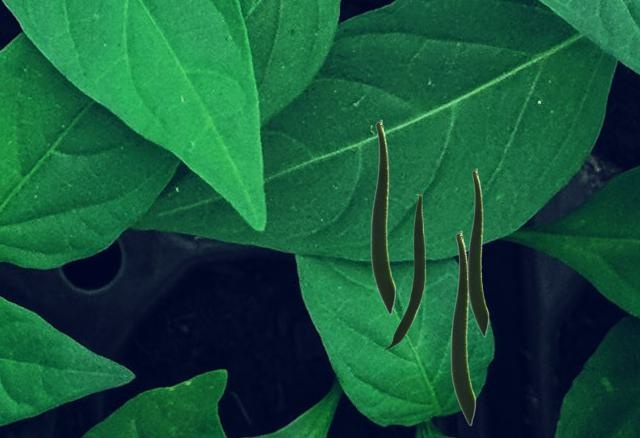french_bean: (382, 194, 424, 349), (450, 230, 475, 425), (370, 119, 395, 314), (467, 168, 488, 336)
